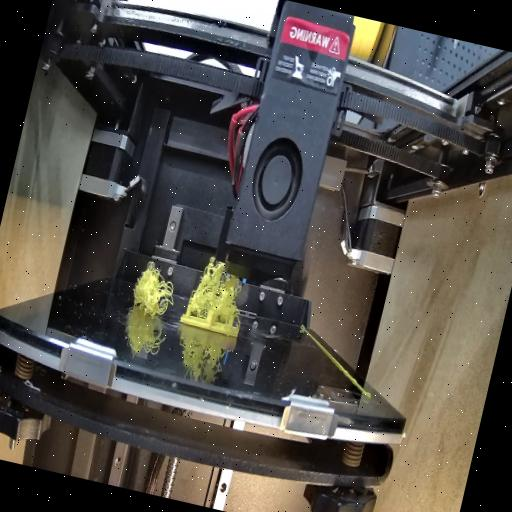spaghetti: (182, 249, 254, 325), (130, 262, 180, 318)
